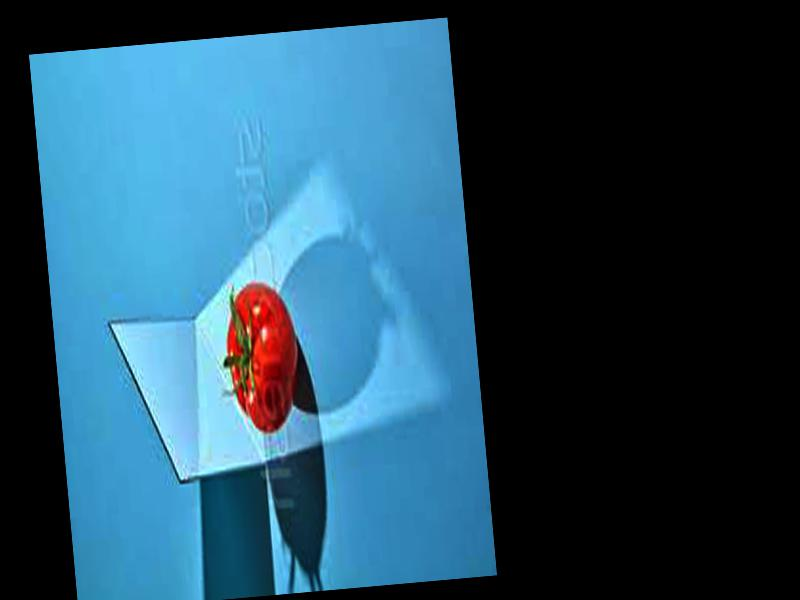Tomato: (221, 280, 305, 436)
